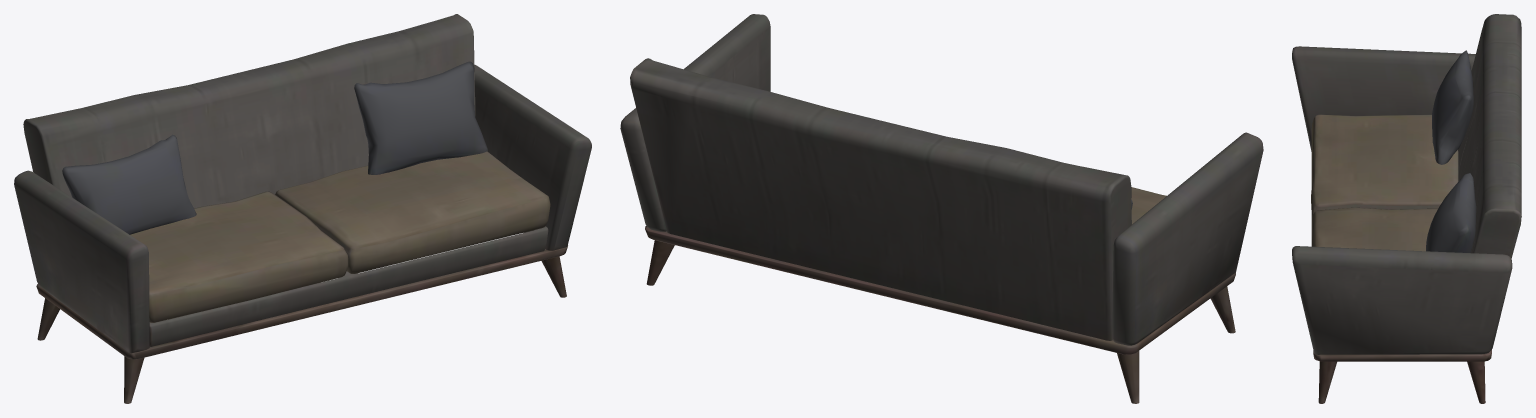
Rendered from sofa_3s_midcentury.low.glb.
3 renders of one model, left to right at view 1: azimuth 30°, elevation 25°; view 2: azimuth 150°, elevation 25°; view 3: azimuth 270°, elevation 25°, orthographic. The views are drawn at different scales.
Parts seen in each view (by area): view 1: fabric; view 2: fabric; view 3: fabric.
Boxes of the visible parts, bbox=[...] form: fabric: bbox=[14, 14, 591, 403]; fabric: bbox=[620, 14, 1263, 403]; fabric: bbox=[1292, 14, 1521, 403].
Size of the model in its own units: 2.1 by 0.8969 by 0.9691.
1 material, 1 textured.
